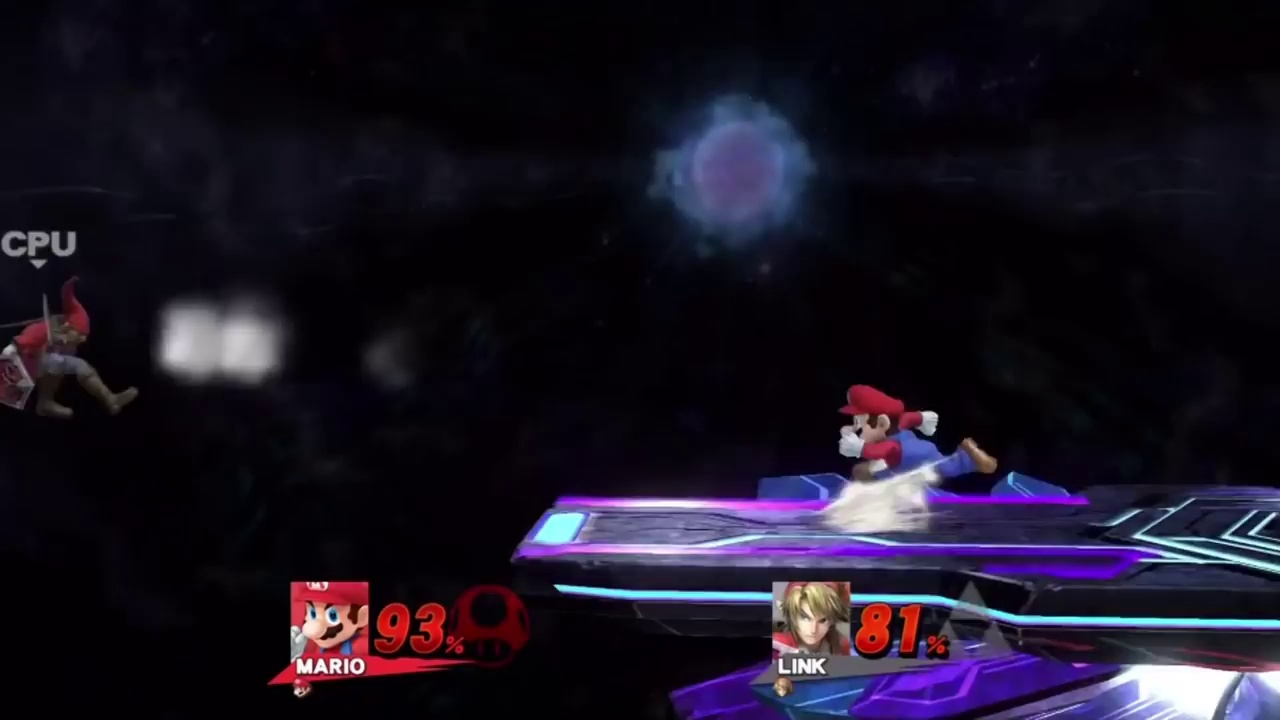Mario: (836, 387, 996, 495)
